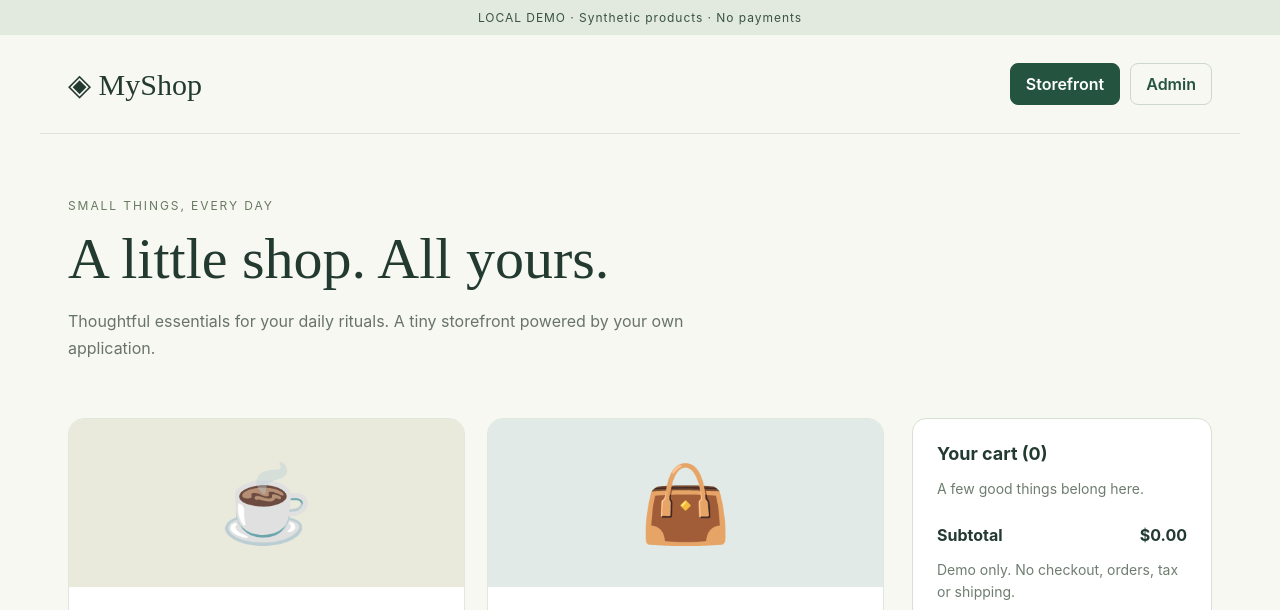
Test: Data jobs admin section › shows a backend failure instead of an empty list
Click the button "Admin" at (1171, 84), box x1=1130 y1=63 x2=1212 y2=105
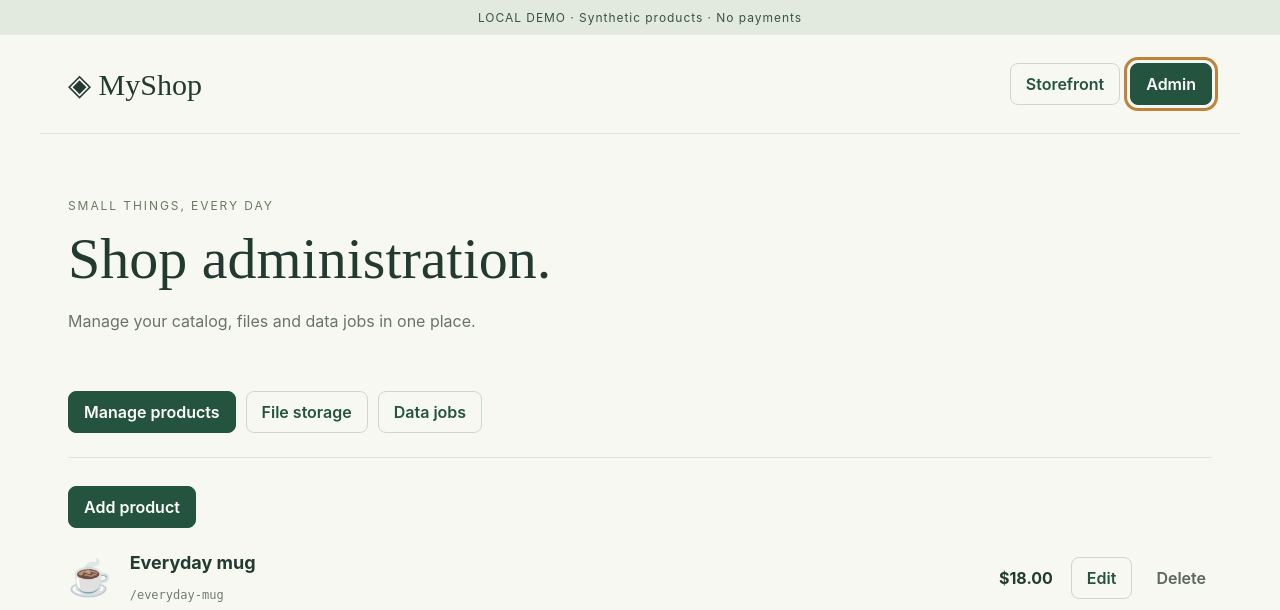
Click the button "Data jobs" at (430, 412), box x1=378 y1=391 x2=482 y2=433
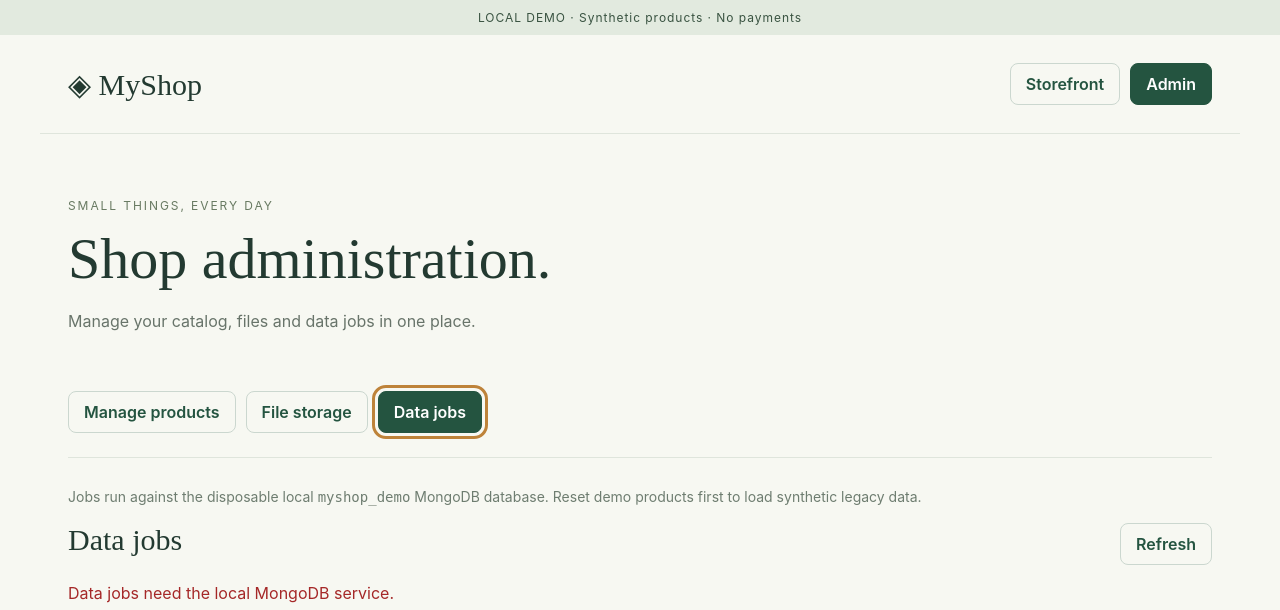
Now the message "Data jobs need the local MongoDB service." is shown, box x1=68 y1=583 x2=394 y2=603
